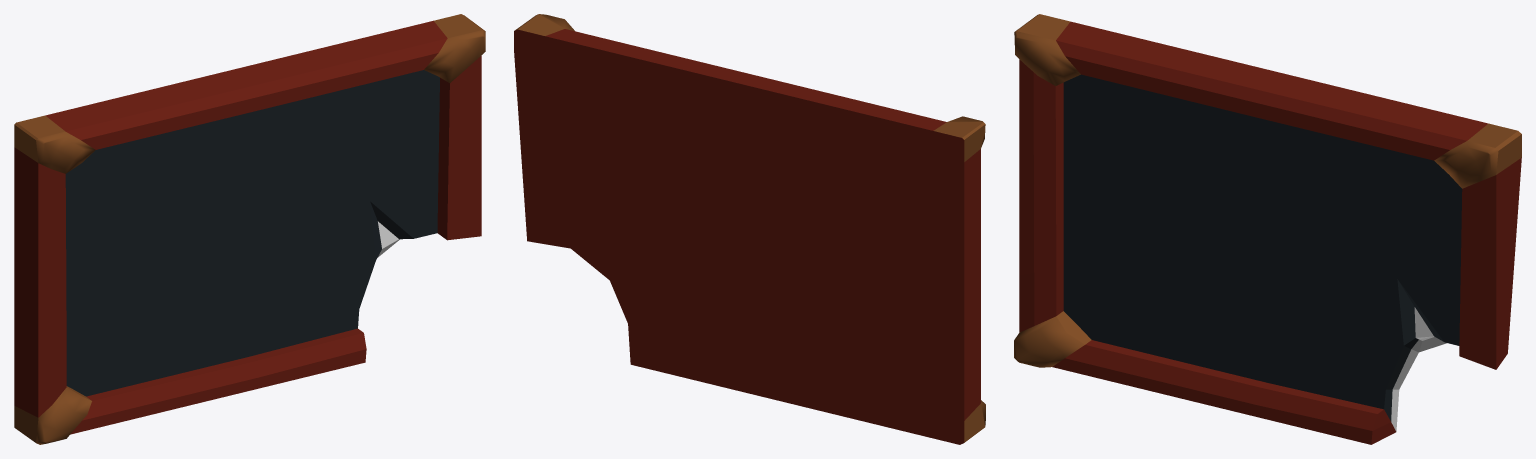
The model's file is Big Screen.fbx.
3 views of the same model, side by side, from view 1: azimuth 30°, elevation 25°; view 2: azimuth 150°, elevation 25°; view 3: azimuth 330°, elevation 25° (orthographic). The views are drawn at different scales.
Parts seen in each view (by area): view 1: Cube; view 2: Cube; view 3: Cube.
Part boxes in pixels (x1,y1,x2,y2): Cube: (14,14,485,444); Cube: (514,14,985,444); Cube: (1014,14,1521,444).
Bounding box in the file's own units: 306 × 200 × 29.3.
